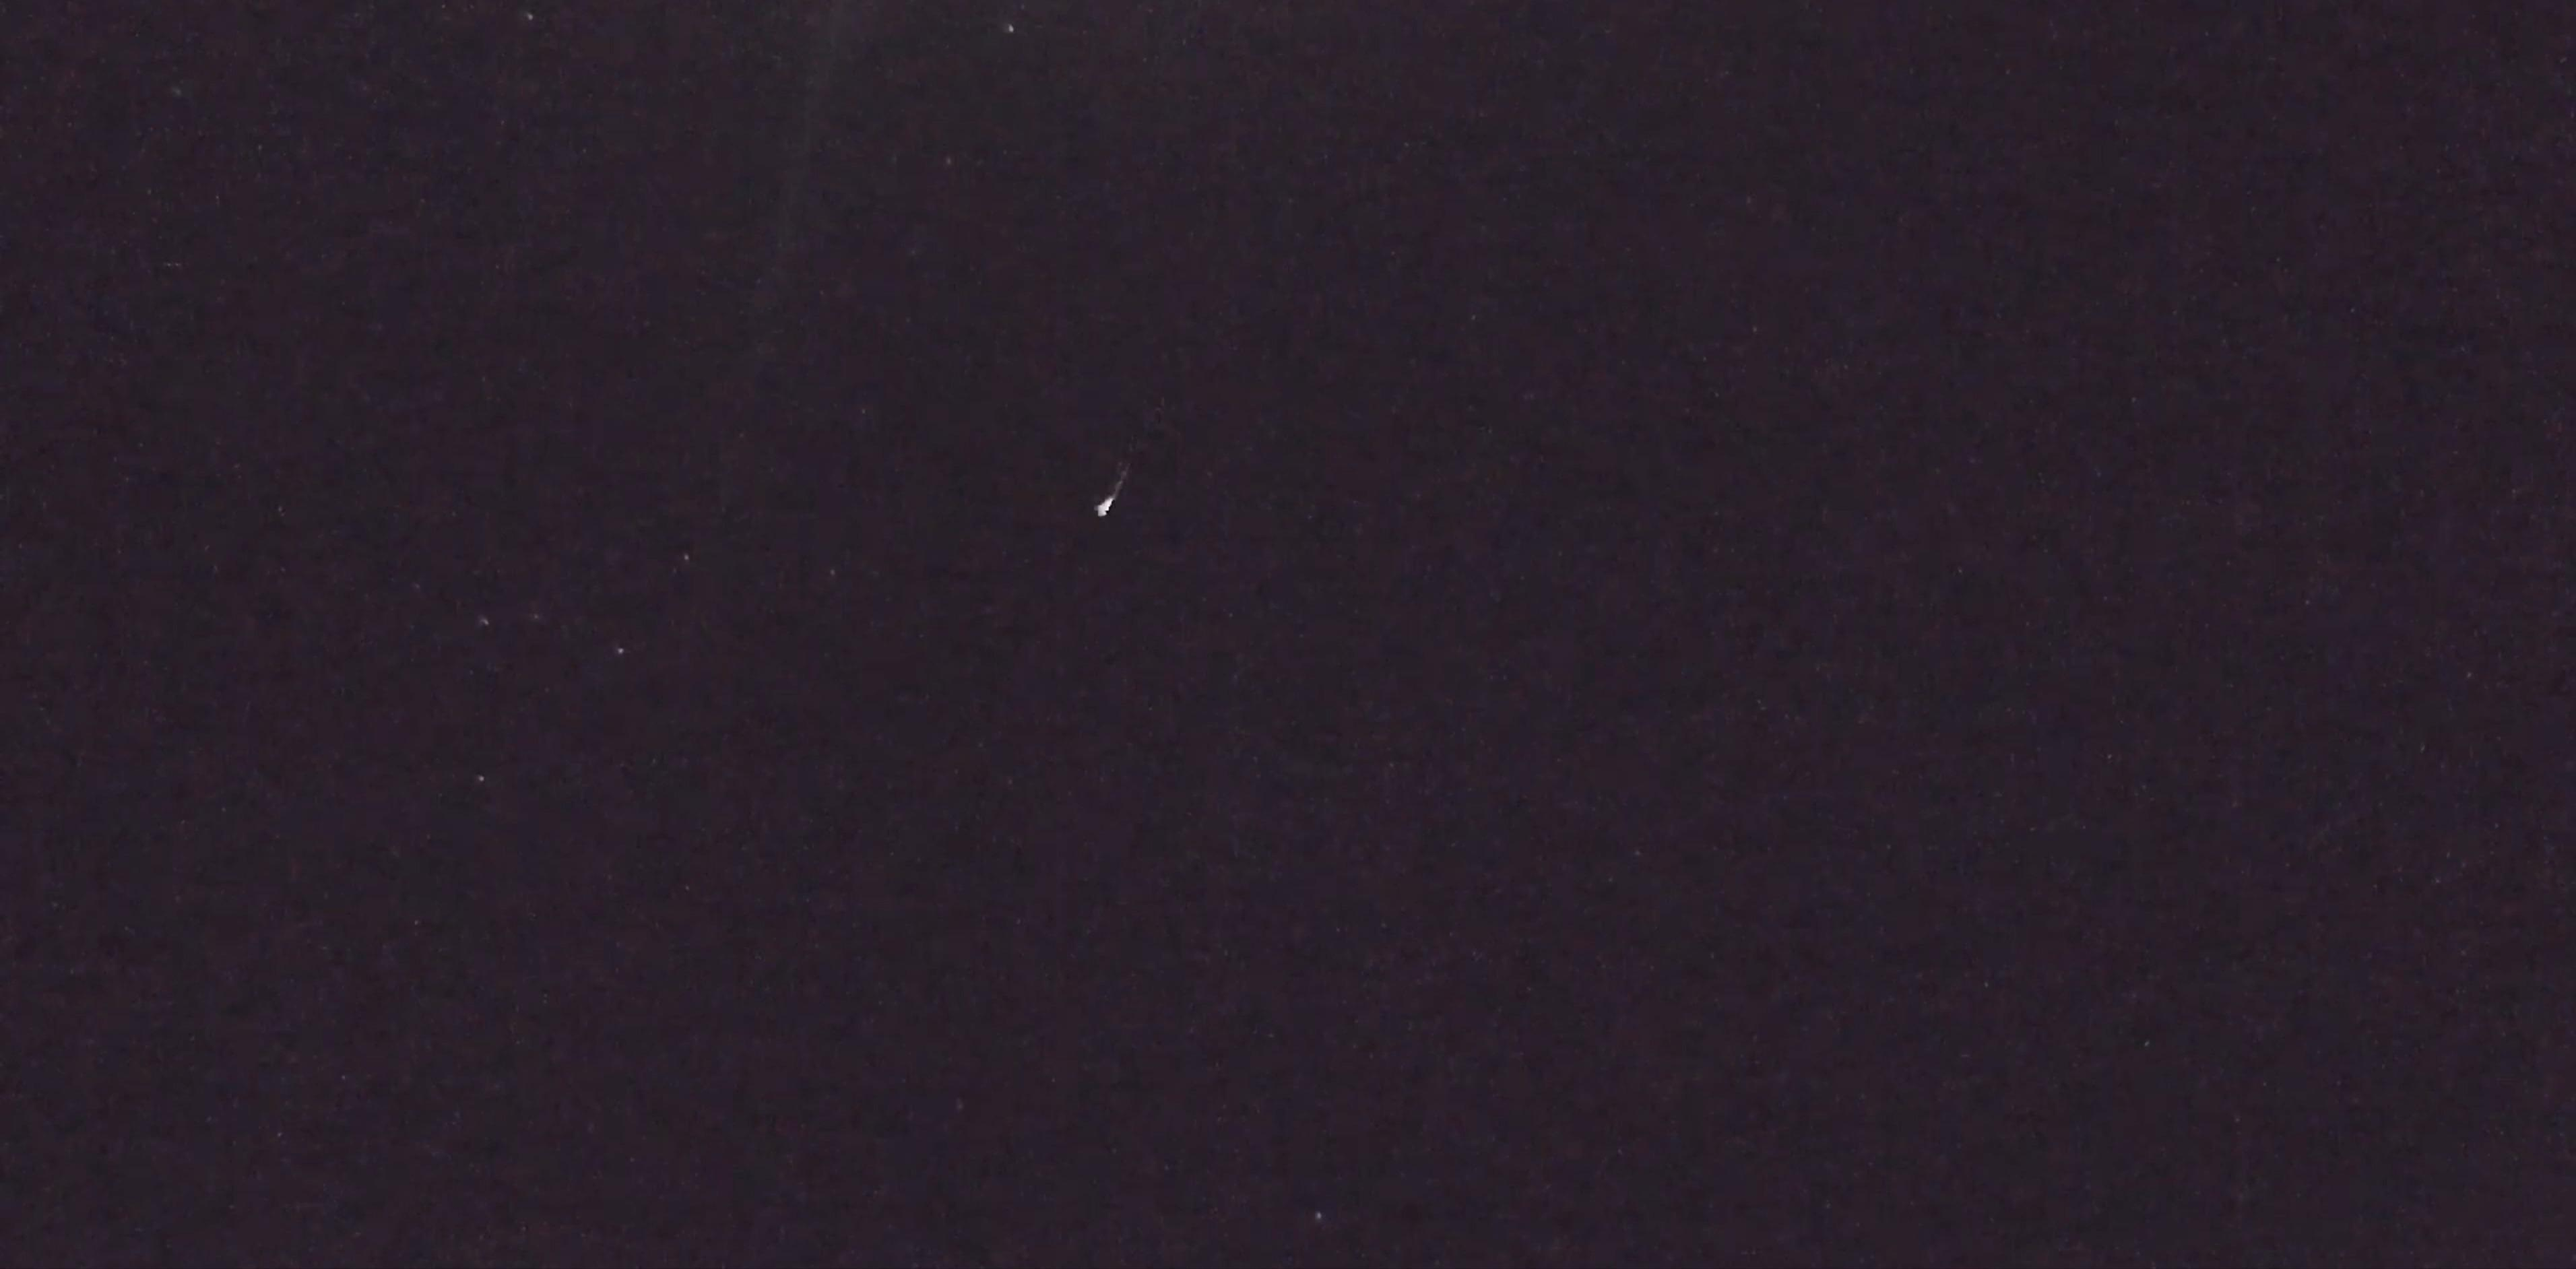meteorite: (1078, 409, 1178, 542)
